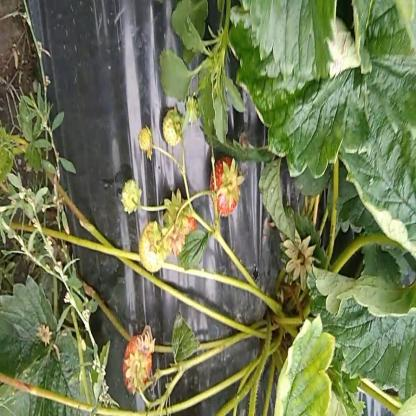ripe: (163, 197, 198, 260), (207, 157, 242, 220), (120, 336, 155, 395)
unripe: (136, 220, 166, 276), (162, 109, 184, 146), (120, 177, 141, 214), (136, 126, 154, 158)
